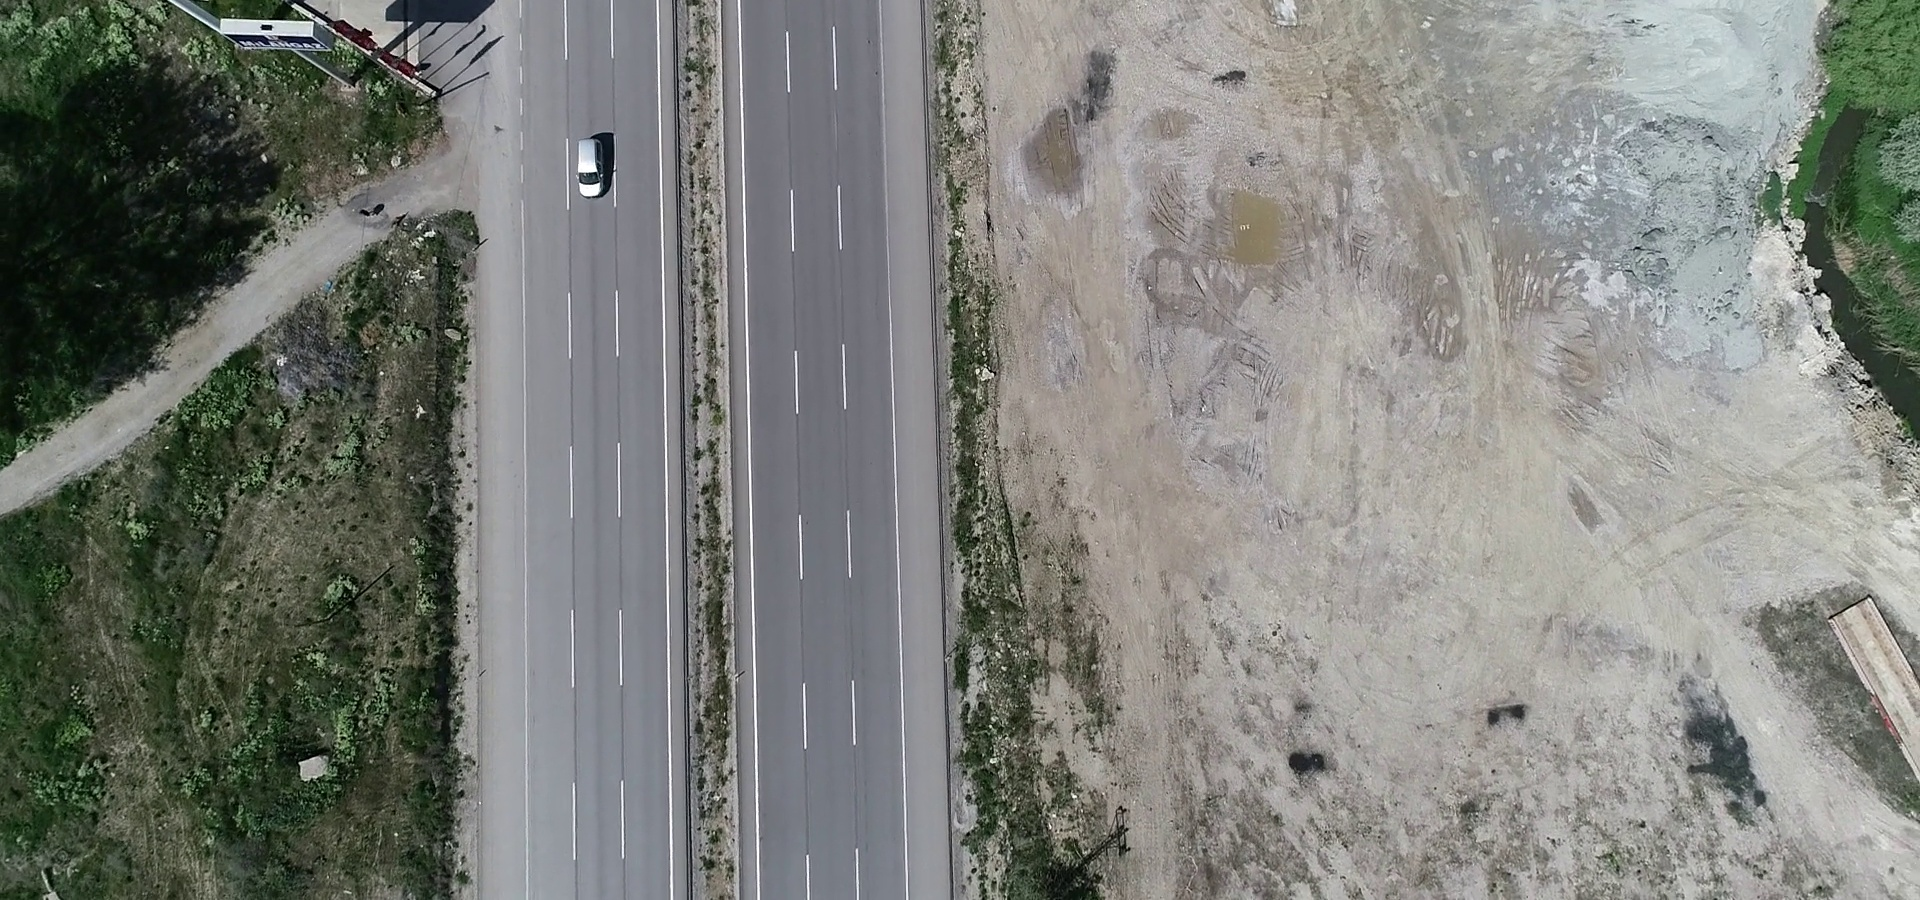araba: (571, 129, 609, 197)
